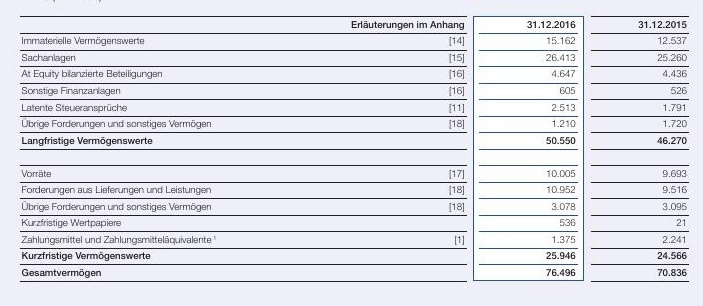table: (0, 0, 703, 306)
